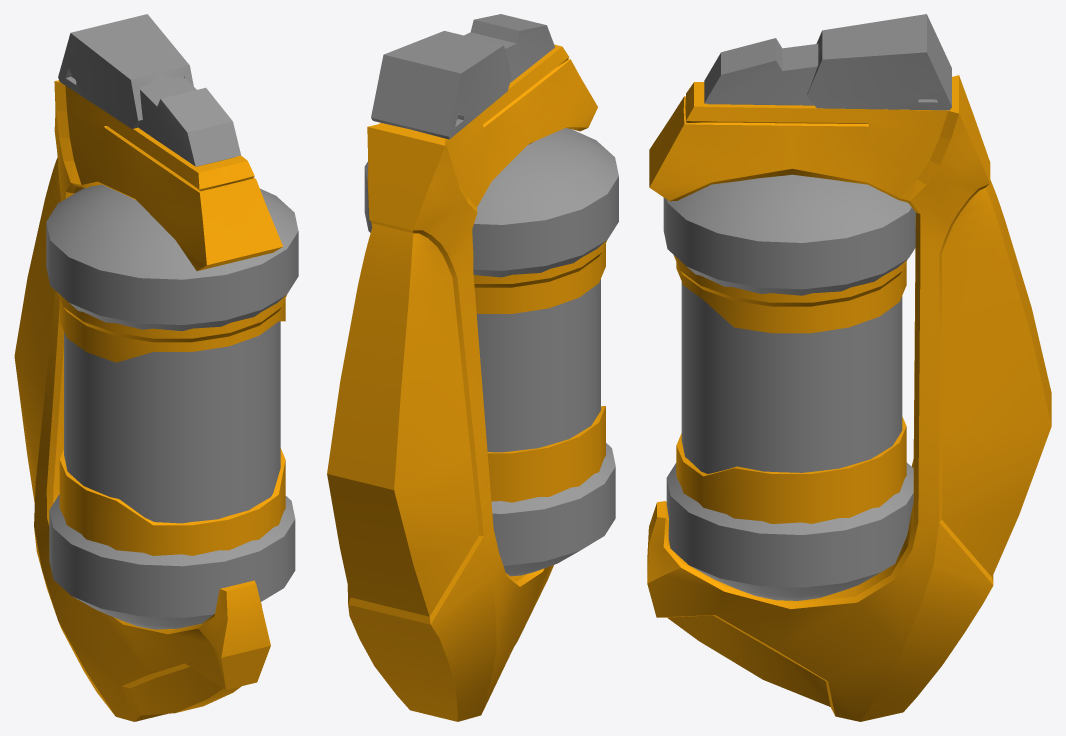
File: Obsticale5.FBX
3 renders of one model, left to right at view 1: azimuth 30°, elevation 25°; view 2: azimuth 150°, elevation 25°; view 3: azimuth 270°, elevation 25°, orthographic.
Parts seen in each view (by area): view 1: granate; view 2: granate; view 3: granate.
Part boxes in pixels (x1,y1,x2,y2): granate: (14, 14, 298, 721); granate: (327, 14, 618, 721); granate: (647, 14, 1051, 721).
Size of the model in its own units: 39.44 by 62.06 by 114.
